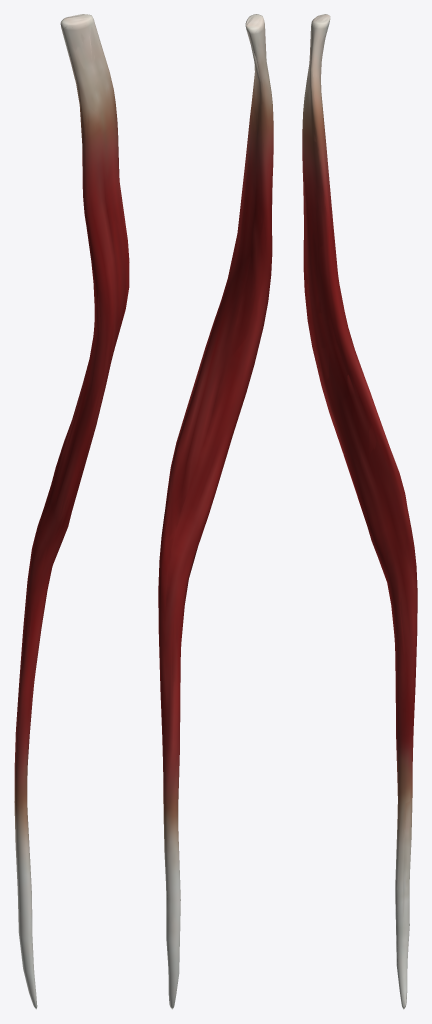
Rendered from L Pronator teres.fbx.
3 renders of one model, left to right at view 1: azimuth 90°, elevation 25°; view 2: azimuth 150°, elevation 25°; view 3: azimuth 330°, elevation 25°, orthographic. The views are drawn at different scales.
Parts seen in each view (by area): view 1: L Pronator teres, L Pronator teres low, L Pronator teres high; view 2: L Pronator teres, L Pronator teres low, L Pronator teres high; view 3: L Pronator teres, L Pronator teres low, L Pronator teres high.
Part boxes in pixels (bbox=[...]): L Pronator teres: bbox=[14, 14, 129, 1009]; L Pronator teres low: bbox=[20, 15, 128, 1008]; L Pronator teres high: bbox=[14, 16, 128, 1001]; L Pronator teres: bbox=[158, 14, 273, 1009]; L Pronator teres low: bbox=[160, 15, 272, 1009]; L Pronator teres high: bbox=[159, 16, 273, 1002]; L Pronator teres: bbox=[302, 14, 417, 1009]; L Pronator teres low: bbox=[303, 14, 417, 1009]; L Pronator teres high: bbox=[304, 15, 416, 1002].
Bounding box in the file's own units: 0.9824 × 10.28 × 1.05.
Materials: 1 (1 with a texture image).
